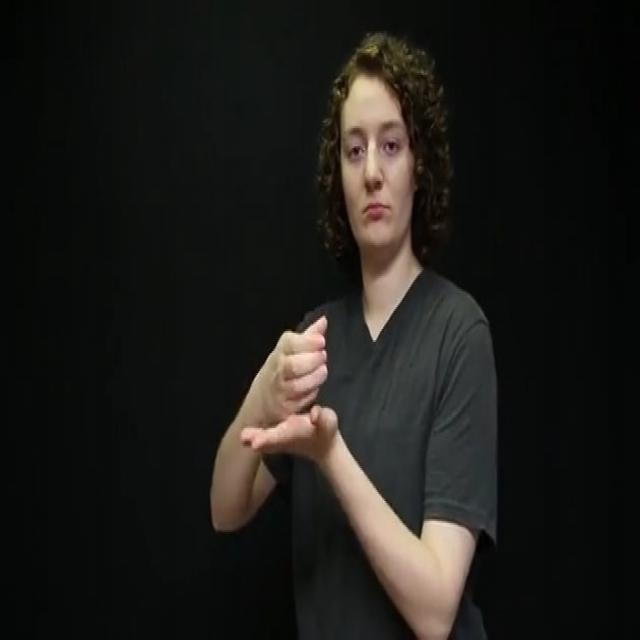cup: (226, 299, 345, 469)
